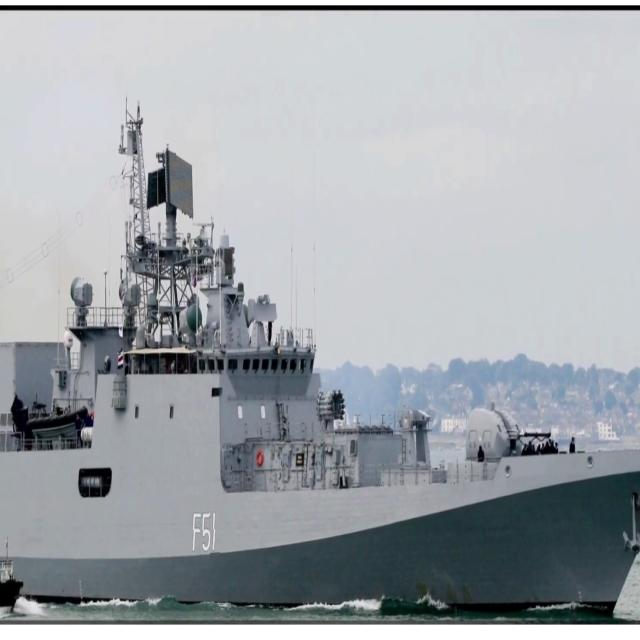OCR: (187, 507, 220, 560)
